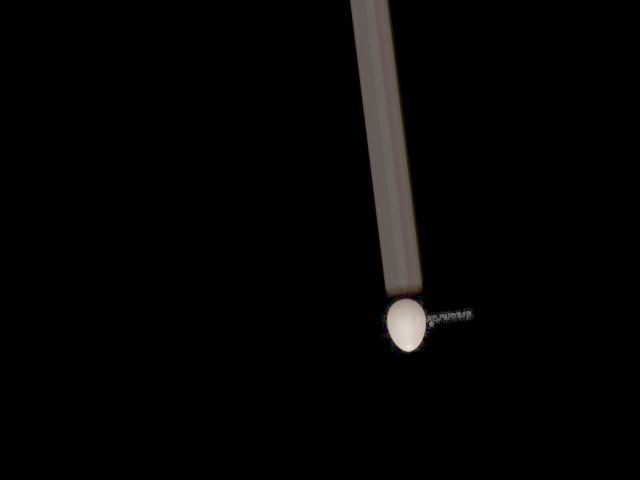egg: (383, 296, 428, 353)
